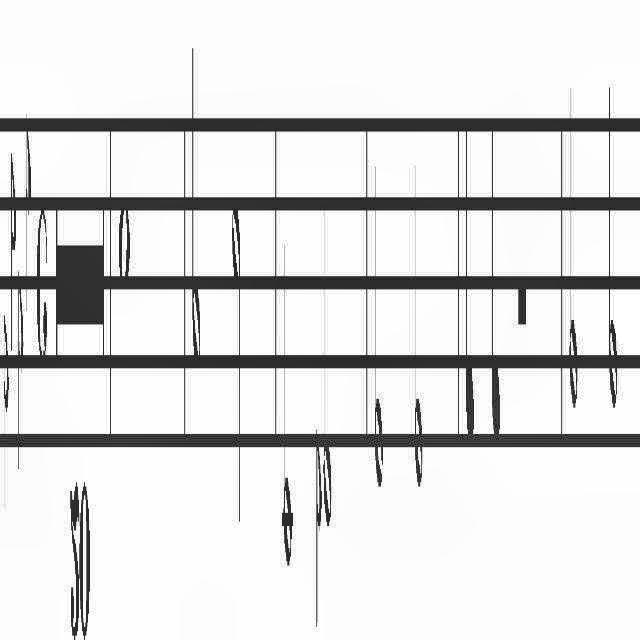Bemol: (2, 294, 10, 518), (24, 113, 32, 311), (316, 424, 322, 636), (10, 153, 16, 354), (18, 280, 22, 478)
Full-note: (118, 189, 130, 303)
Half-note: (608, 70, 620, 426), (567, 79, 579, 421), (372, 153, 383, 499), (412, 162, 423, 496), (191, 26, 201, 386), (232, 192, 242, 552), (282, 228, 292, 584), (322, 188, 332, 536)
Quarter-note: (463, 105, 475, 447), (491, 104, 501, 456)
